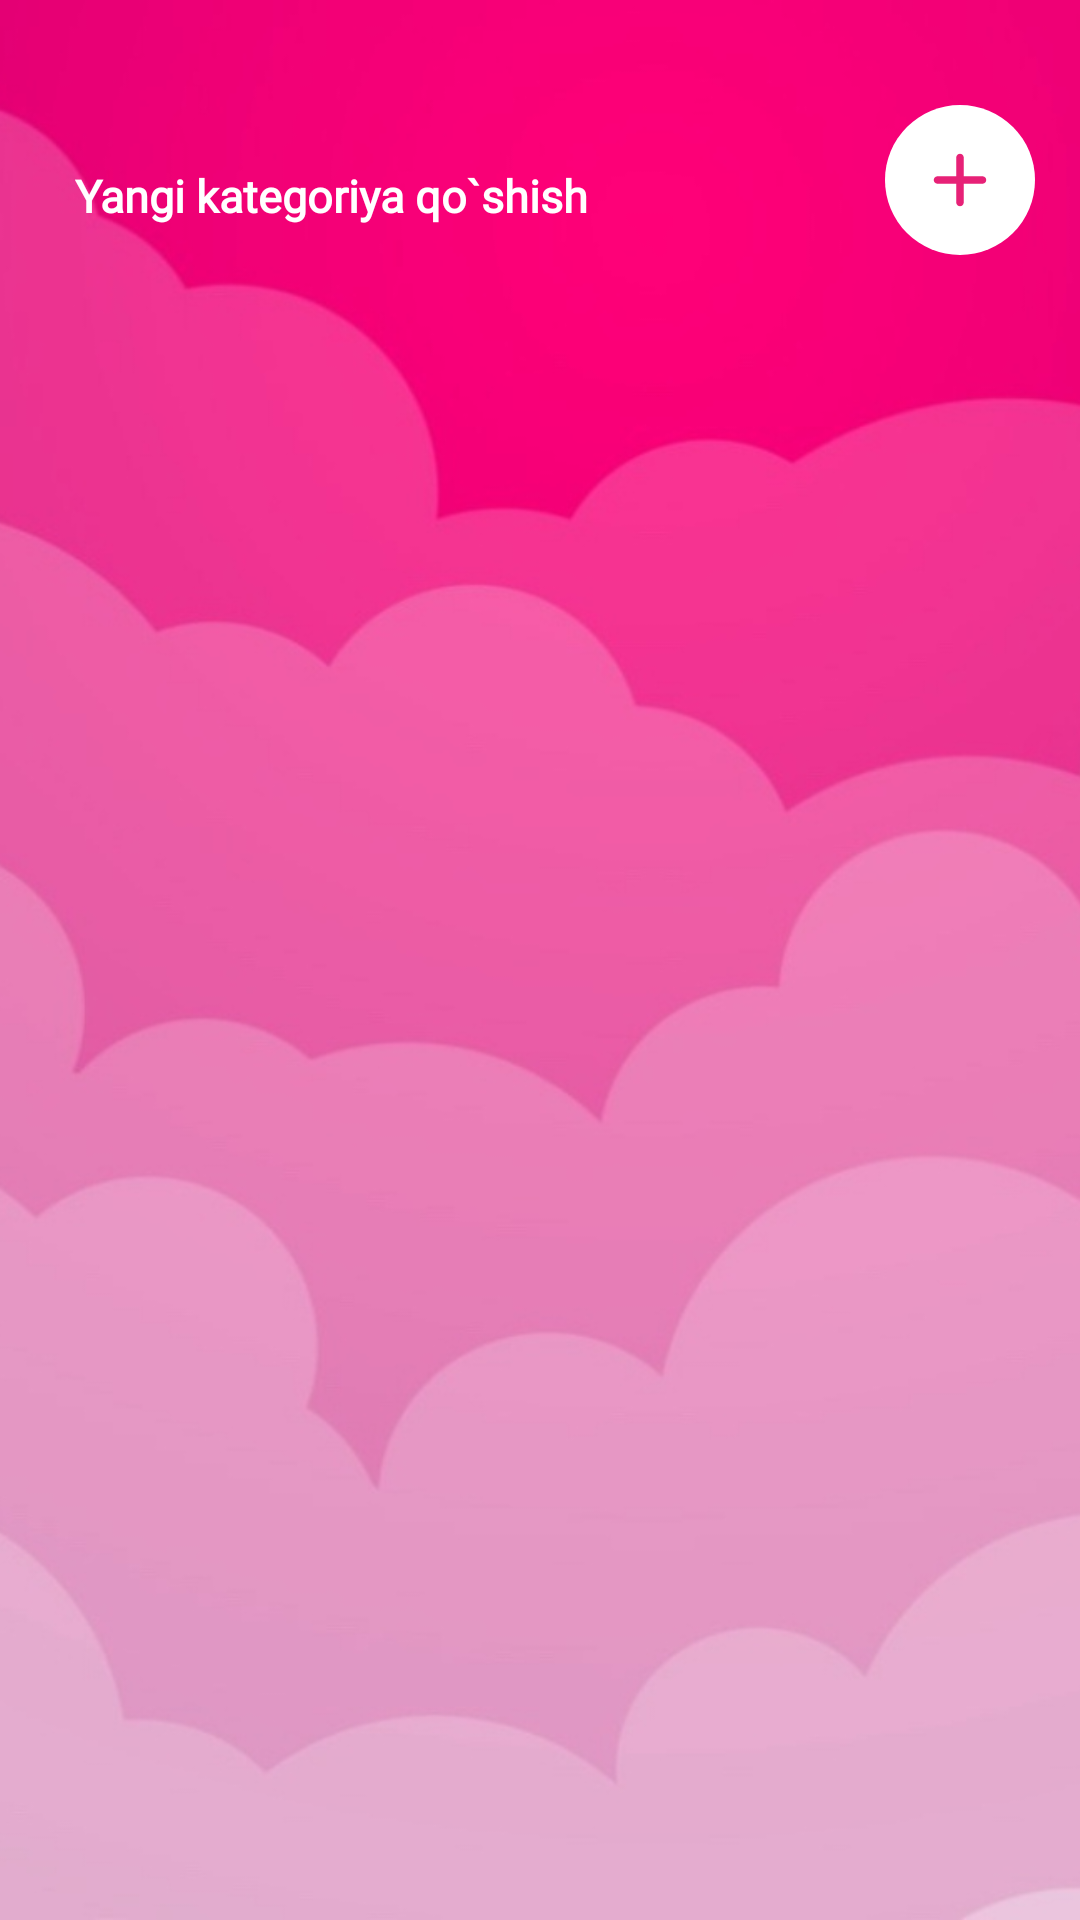

Icon click points for this 1080w x 1920h phone screenshot, format (x,y):
add: (960,180)
